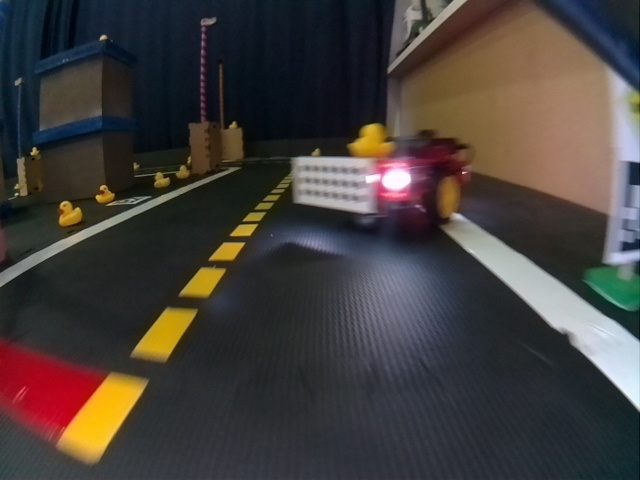Duckie: (350, 124, 392, 157), (58, 203, 82, 226), (95, 185, 115, 202), (156, 172, 166, 188), (176, 166, 186, 174)
Duckiebot: (294, 135, 470, 223)
QR code: (111, 197, 151, 206)
